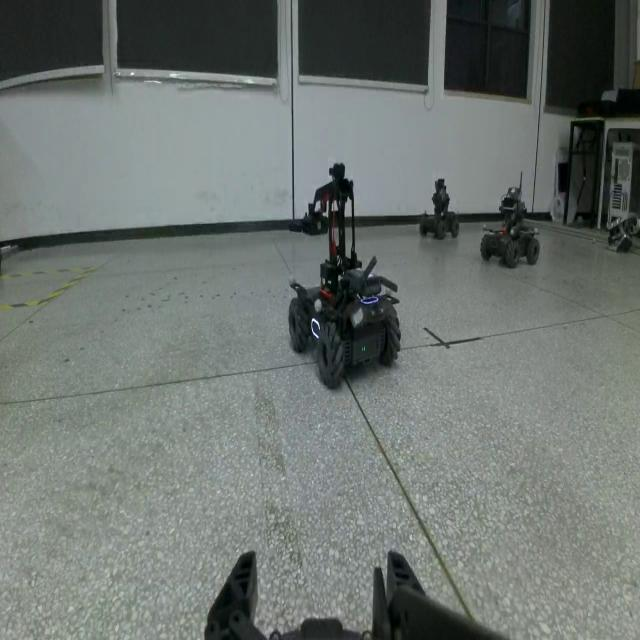ep: (281, 162, 405, 399)
s1: (478, 168, 541, 276), (420, 169, 460, 242)
